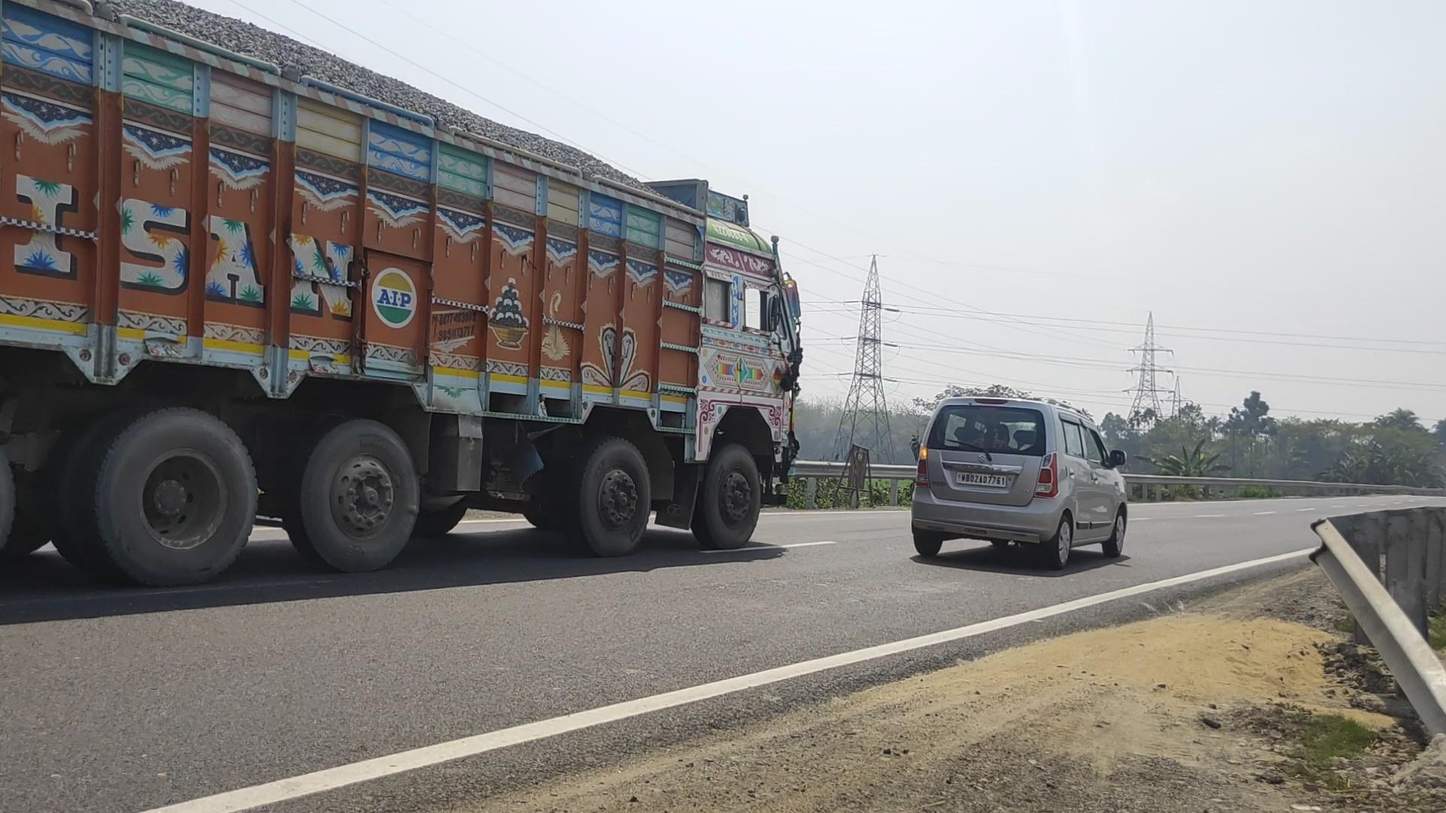car: (912, 394, 1128, 571)
truck: (1, 1, 802, 589)
